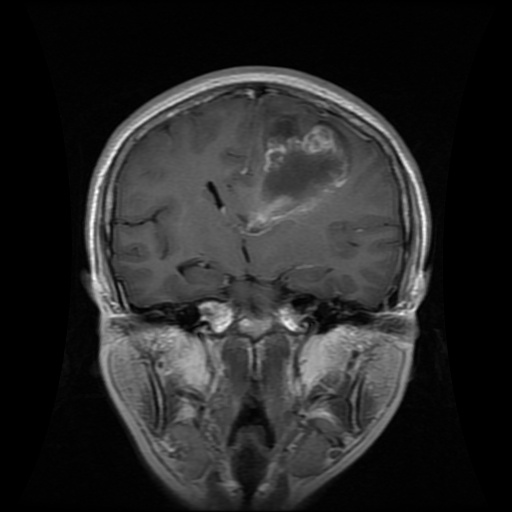glioma: (247, 109, 350, 228)
